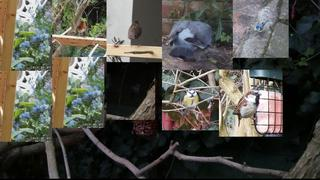blue tit: (182, 88, 199, 116), (254, 20, 269, 39)
robin: (128, 20, 142, 48), (74, 20, 86, 38)
sparrow: (232, 90, 262, 127)
wood pigeon: (168, 20, 213, 63)
